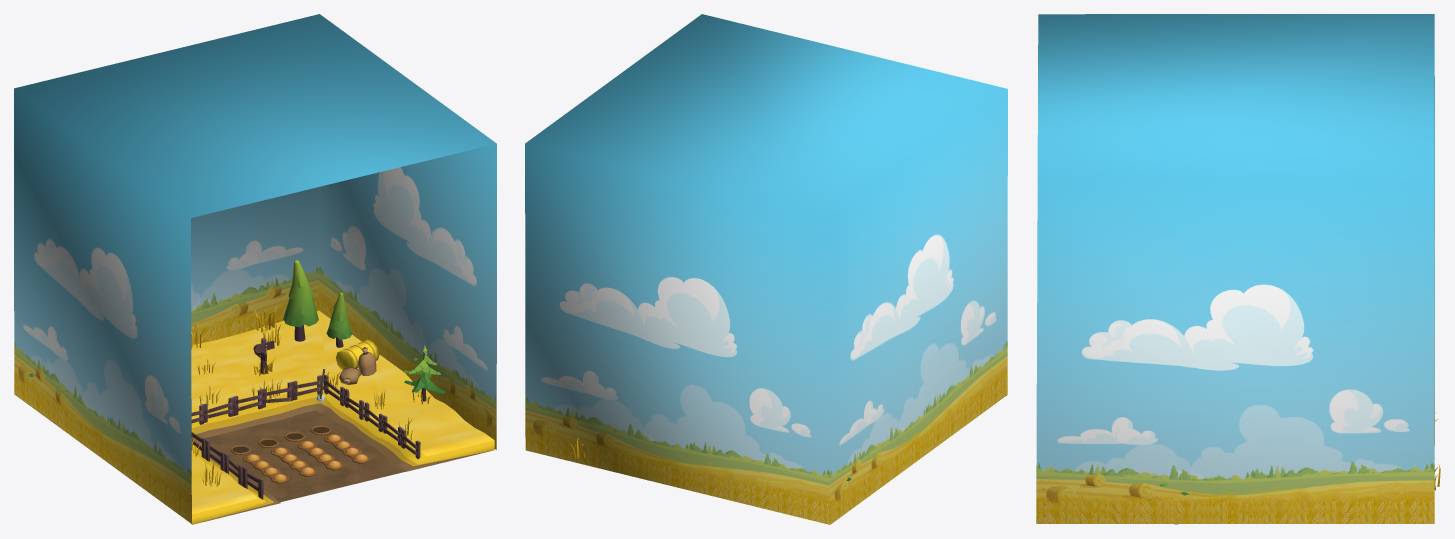
File: map dap chuot.fbx
3 renders of one model, left to right at view 1: azimuth 30°, elevation 25°; view 2: azimuth 150°, elevation 25°; view 3: azimuth 270°, elevation 25°, orthographic. The views are drawn at different scales.
Parts seen in each view (by area): view 1: nen_troi1, dat, cay, lua_mach, rom, polySurface16689, polySurface16700, polySurface16698, polySurface16693; view 2: nen_troi1; view 3: nen_troi1.
Part boxes in pixels (box(x1,y1,x2,y2)): nen_troi1: box(14, 14, 496, 523); dat: box(15, 310, 494, 524); cay: box(29, 260, 446, 401); lua_mach: box(191, 303, 431, 486); rom: box(253, 338, 379, 384); polySurface16689: box(271, 447, 317, 476); polySurface16700: box(243, 454, 289, 483); polySurface16698: box(297, 441, 343, 470); polySurface16693: box(324, 434, 370, 463); nen_troi1: box(525, 14, 1007, 524); nen_troi1: box(1036, 14, 1434, 523).
Bounding box in the file's own units: 2752 × 2649 × 2758.
5 materials, 3 textured.
